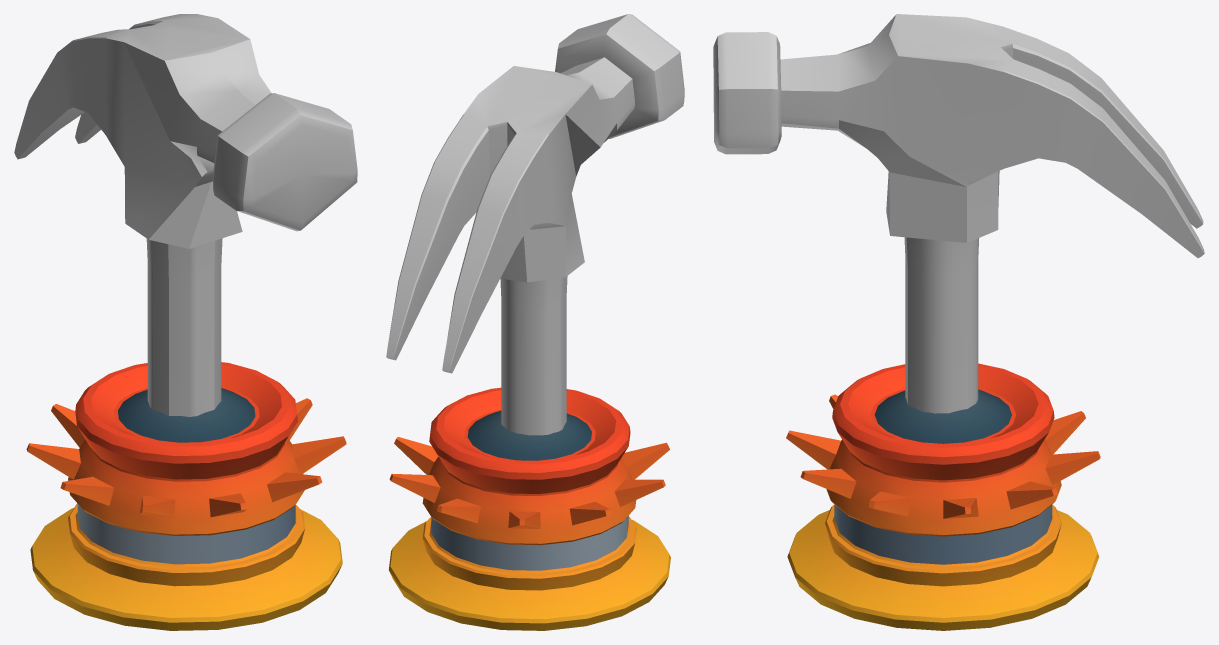
File: 2_Hammer_Module.fbx
3 views of the same model, side by side, from view 1: azimuth 30°, elevation 25°; view 2: azimuth 150°, elevation 25°; view 3: azimuth 270°, elevation 25° (orthographic). The views are drawn at different scales.
Visible parts, largest first — view 1: Hammer_Module, Hammer; view 2: Hammer, Hammer_Module; view 3: Hammer, Hammer_Module.
Part boxes in pixels (<box>): Hammer_Module: <box>26,362,346,630</box>; Hammer: <box>14,14,357,416</box>; Hammer: <box>386,14,684,435</box>; Hammer_Module: <box>388,387,670,630</box>; Hammer: <box>713,14,1204,413</box>; Hammer_Module: <box>786,363,1100,630</box>.
Bounding box in the file's own units: 54.98 × 112 × 85.8.
